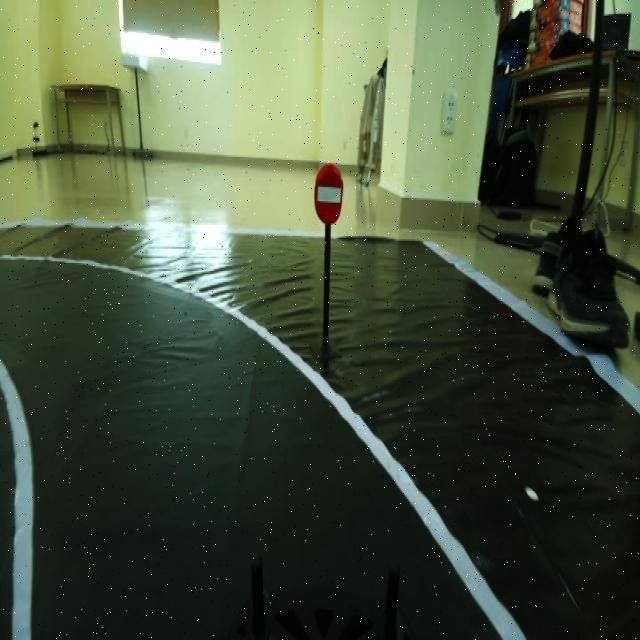no_entry: (307, 154, 351, 220)
